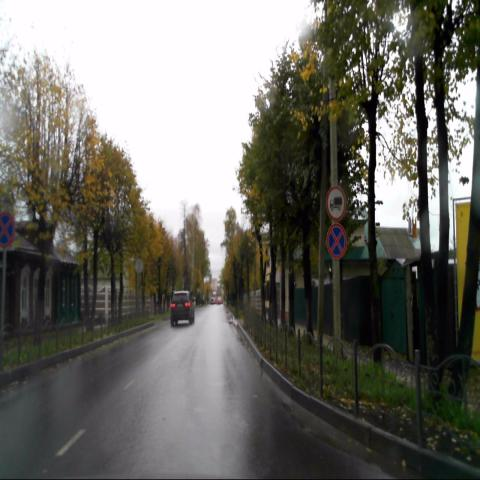3_4_1: (326, 186, 346, 221)
